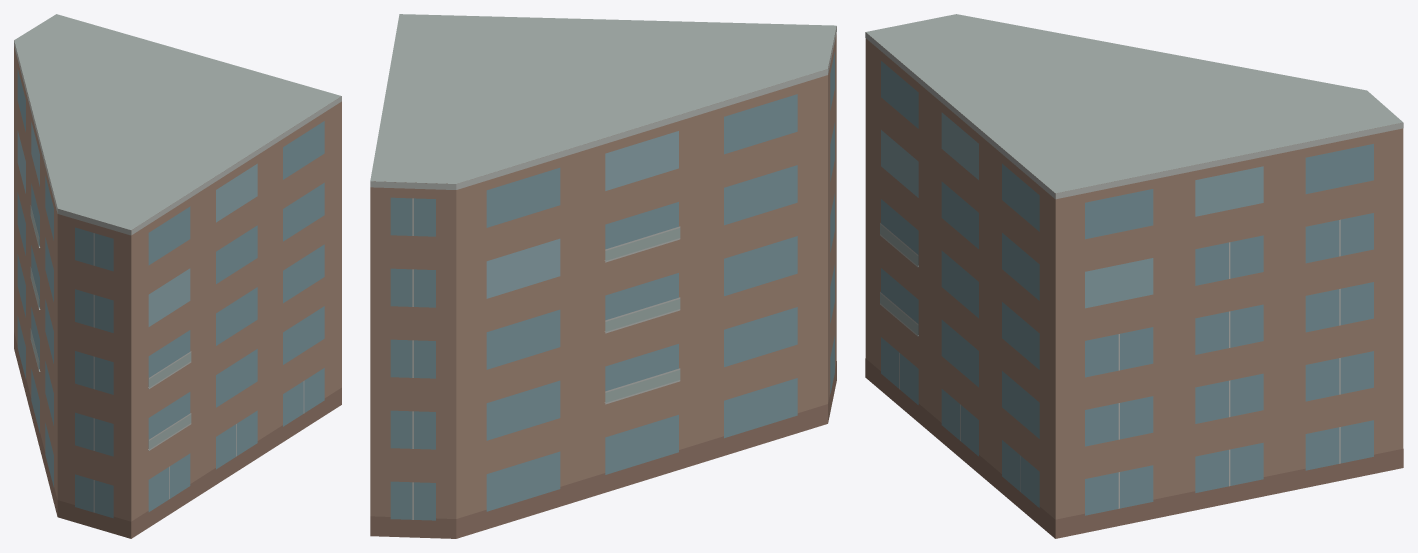
File: survey-upis-32921315.glb
3 renders of one model, left to right at view 1: azimuth 30°, elevation 25°; view 2: azimuth 150°, elevation 25°; view 3: azimuth 270°, elevation 25°, orthographic. The views are drawn at different scales.
Parts seen in each view (by area): view 1: survey-upis-32921315.tmp; view 2: survey-upis-32921315.tmp; view 3: survey-upis-32921315.tmp.
Part boxes in pixels (left/top/right/bottom): survey-upis-32921315.tmp: left=14, top=14, right=341, bottom=538; survey-upis-32921315.tmp: left=370, top=14, right=836, bottom=538; survey-upis-32921315.tmp: left=865, top=14, right=1403, bottom=538.
Size of the model in its own units: 15.82 by 14.2 by 20.05.
